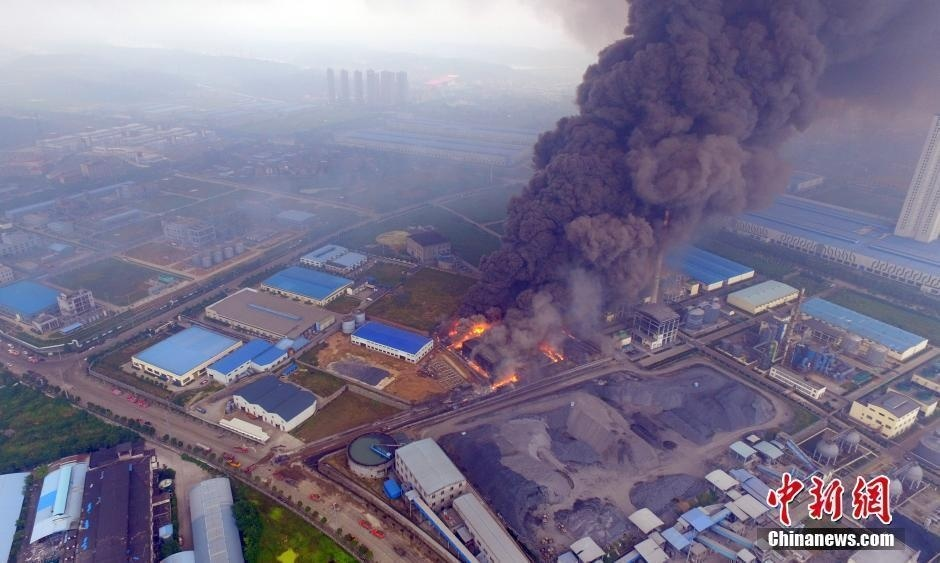fire: (444, 311, 514, 385), (446, 314, 490, 348), (539, 338, 567, 363)
